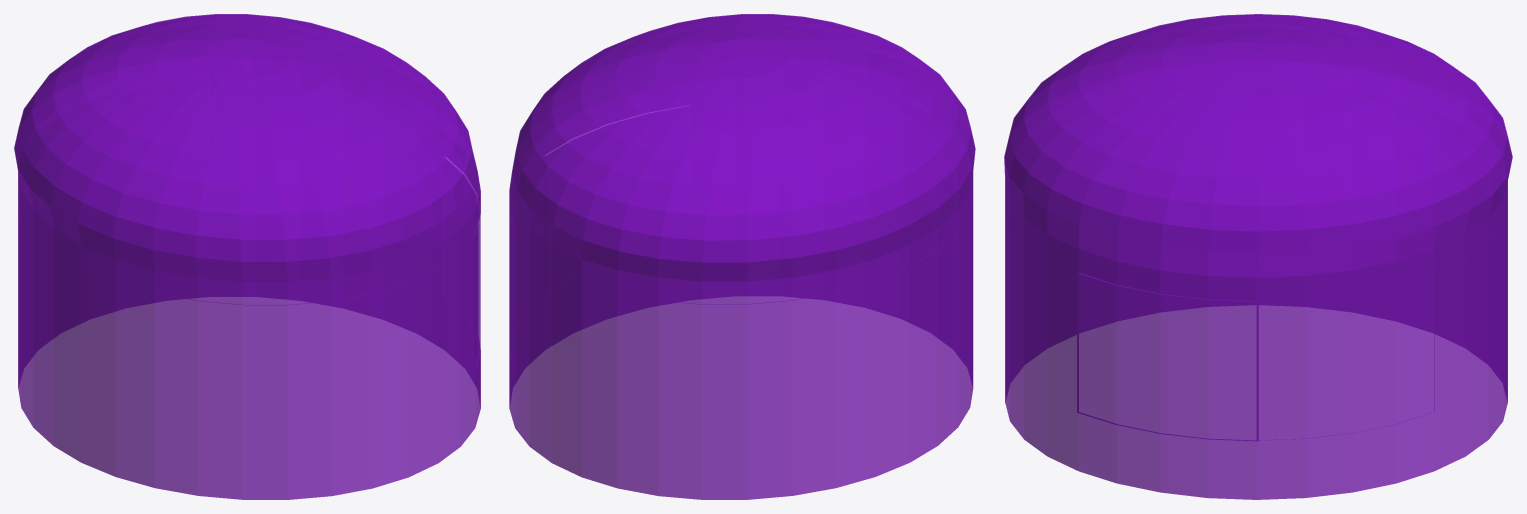
The model's file is Animation-ExtremiteSuperieurAscenseur.fbx.
3 renders of one model, left to right at view 1: azimuth 30°, elevation 25°; view 2: azimuth 150°, elevation 25°; view 3: azimuth 270°, elevation 25°, orthographic.
Visible parts, largest first — view 1: AscenseurTube, PorteGauche, PorteDroite; view 2: AscenseurTube, PorteDroite, PorteGauche; view 3: AscenseurTube, PorteDroite, PorteGauche.
Part boxes in pixels (x1,y1,x2,y2): AscenseurTube: (14, 14, 480, 499); PorteGauche: (301, 106, 444, 289); PorteDroite: (442, 157, 480, 371); AscenseurTube: (509, 14, 975, 499); PorteDroite: (545, 106, 689, 293); PorteGauche: (509, 156, 544, 368); AscenseurTube: (1004, 14, 1512, 499); PorteDroite: (1077, 273, 1257, 440); PorteGauche: (1256, 273, 1434, 440).
Size of the model in its own units: 905 by 751 by 992.
